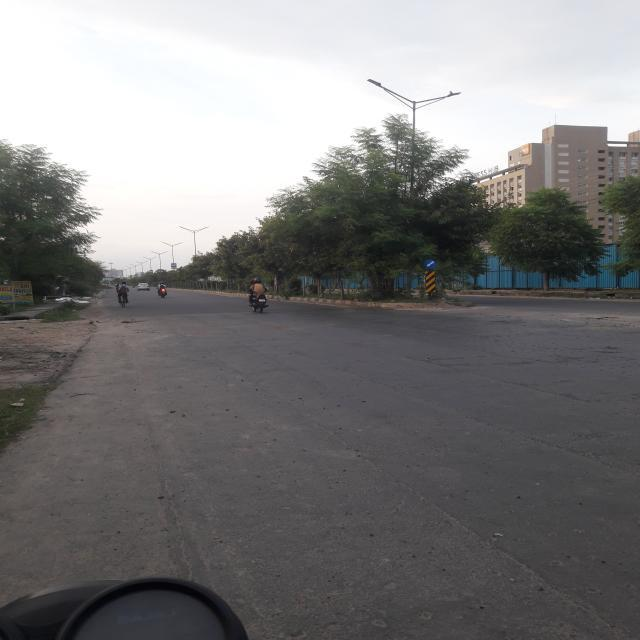compulsary keep left: (425, 259, 437, 270)
